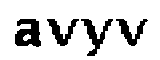a: (12, 17, 44, 48)
v: (116, 15, 149, 51), (45, 17, 81, 49)
y: (80, 17, 117, 60)
